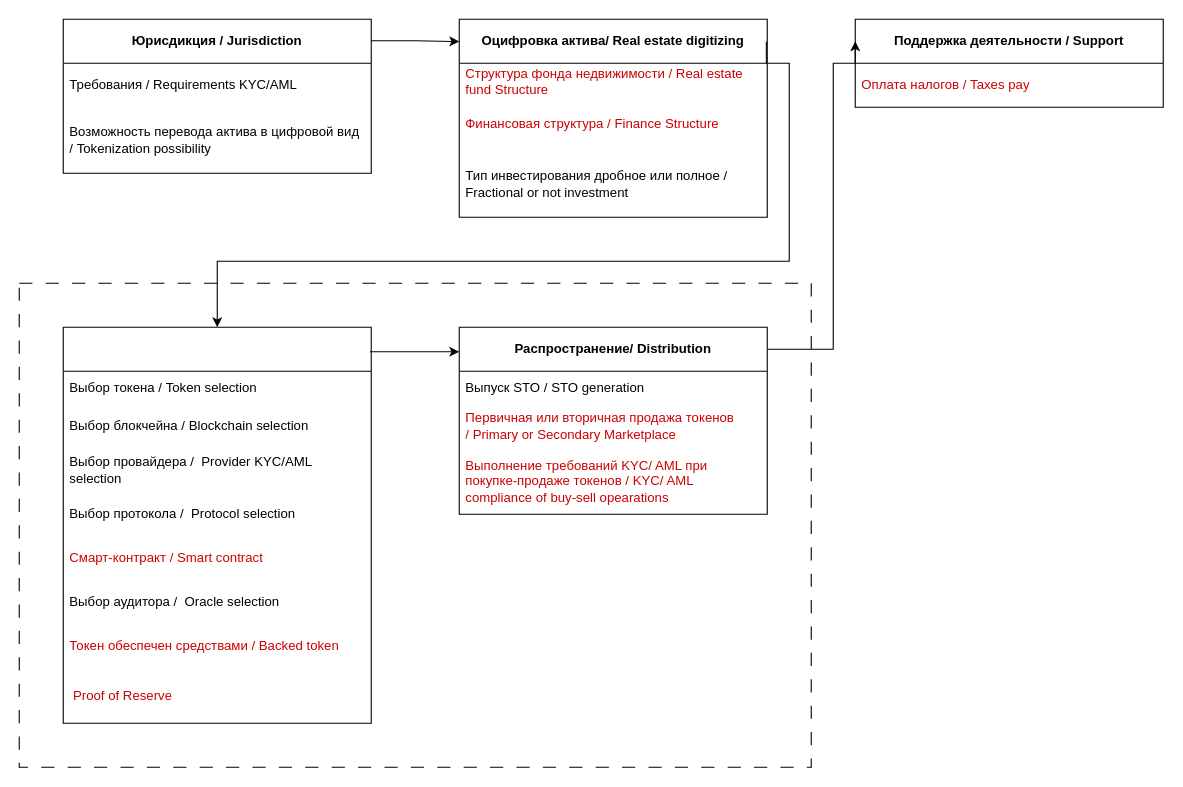
Some shapes in this 1183 by 787 pixel diagram are drawn without their labels. Here are the shapes that lost their labels. From the top down, the box of each, then its label:
(62, 326, 371, 723): Токенизация / Tokenization
(18, 282, 811, 767): White label dApp
